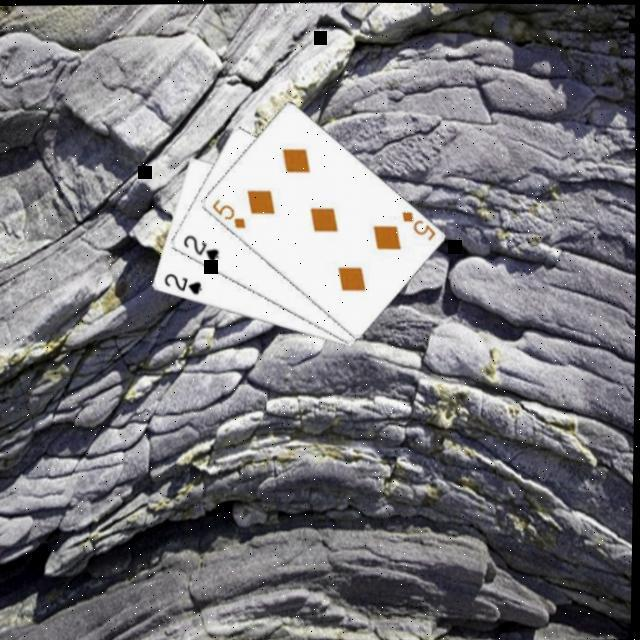2S: (178, 230, 222, 263), (160, 268, 204, 296)
5D: (206, 193, 248, 230), (397, 205, 438, 242)
